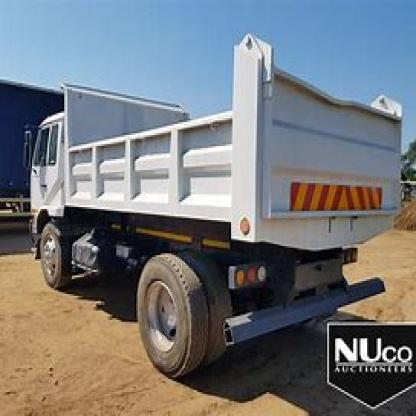dump_truck: (14, 26, 408, 379)
